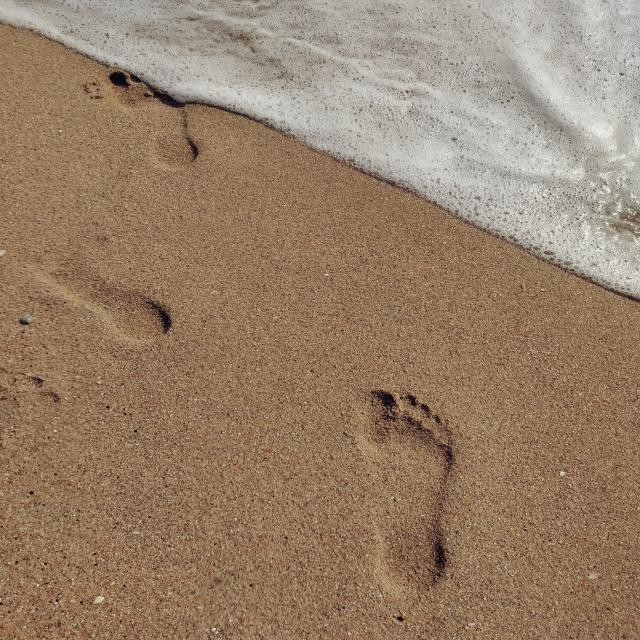human_foot_print: (10, 66, 558, 614)
